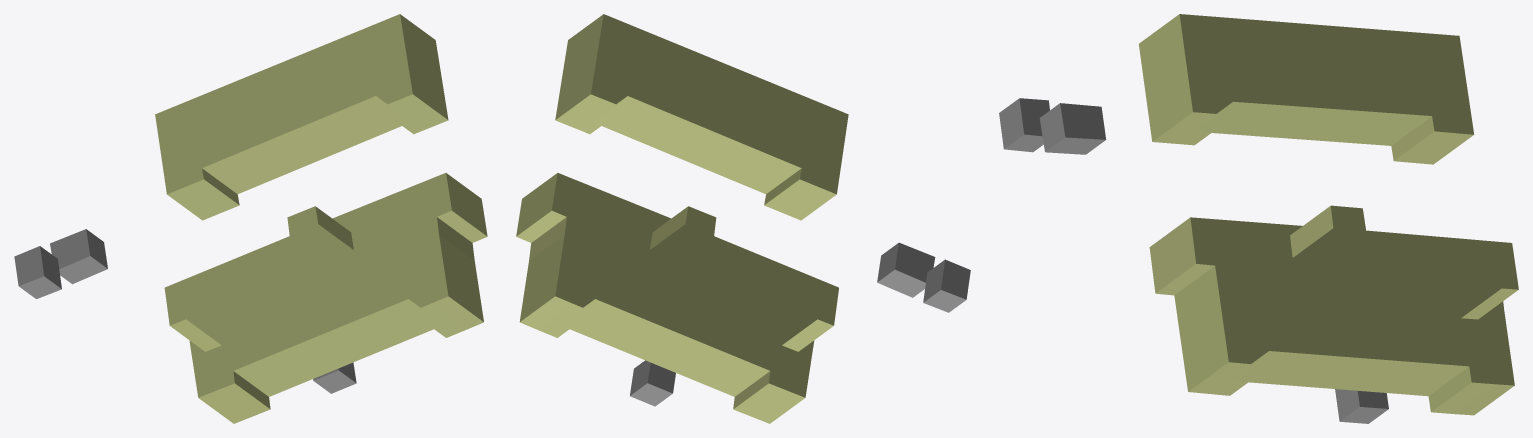
The picture shows the model from 3 angles, left to right: view 1: azimuth 30°, elevation 25°; view 2: azimuth 150°, elevation 25°; view 3: azimuth 330°, elevation 25°; orthographic projection. The views are drawn at different scales.
Visible parts, largest first — view 1: 0_1_2_0_3_2_0_1_2; view 2: 0_1_2_0_3_2_0_1_2; view 3: 0_1_2_0_3_2_0_1_2.
Part boxes in pixels (x1,y1,x2,y2): 0_1_2_0_3_2_0_1_2: [14, 14, 487, 423]; 0_1_2_0_3_2_0_1_2: [516, 14, 970, 423]; 0_1_2_0_3_2_0_1_2: [999, 14, 1518, 423].
Size of the model in its own units: 42.45 by 32.05 by 6.06.
